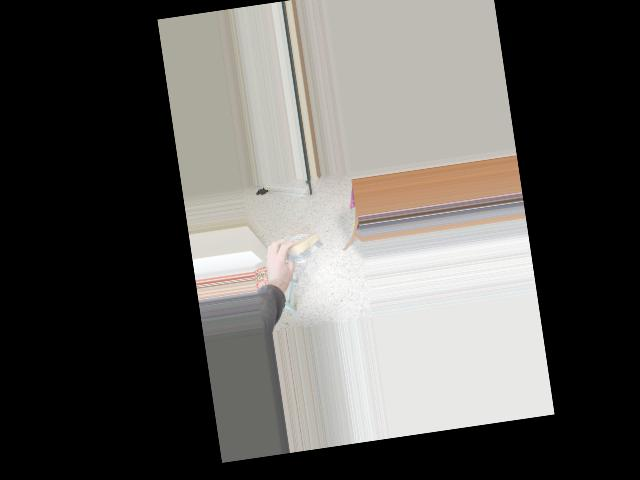cheese: (275, 230, 324, 259)
